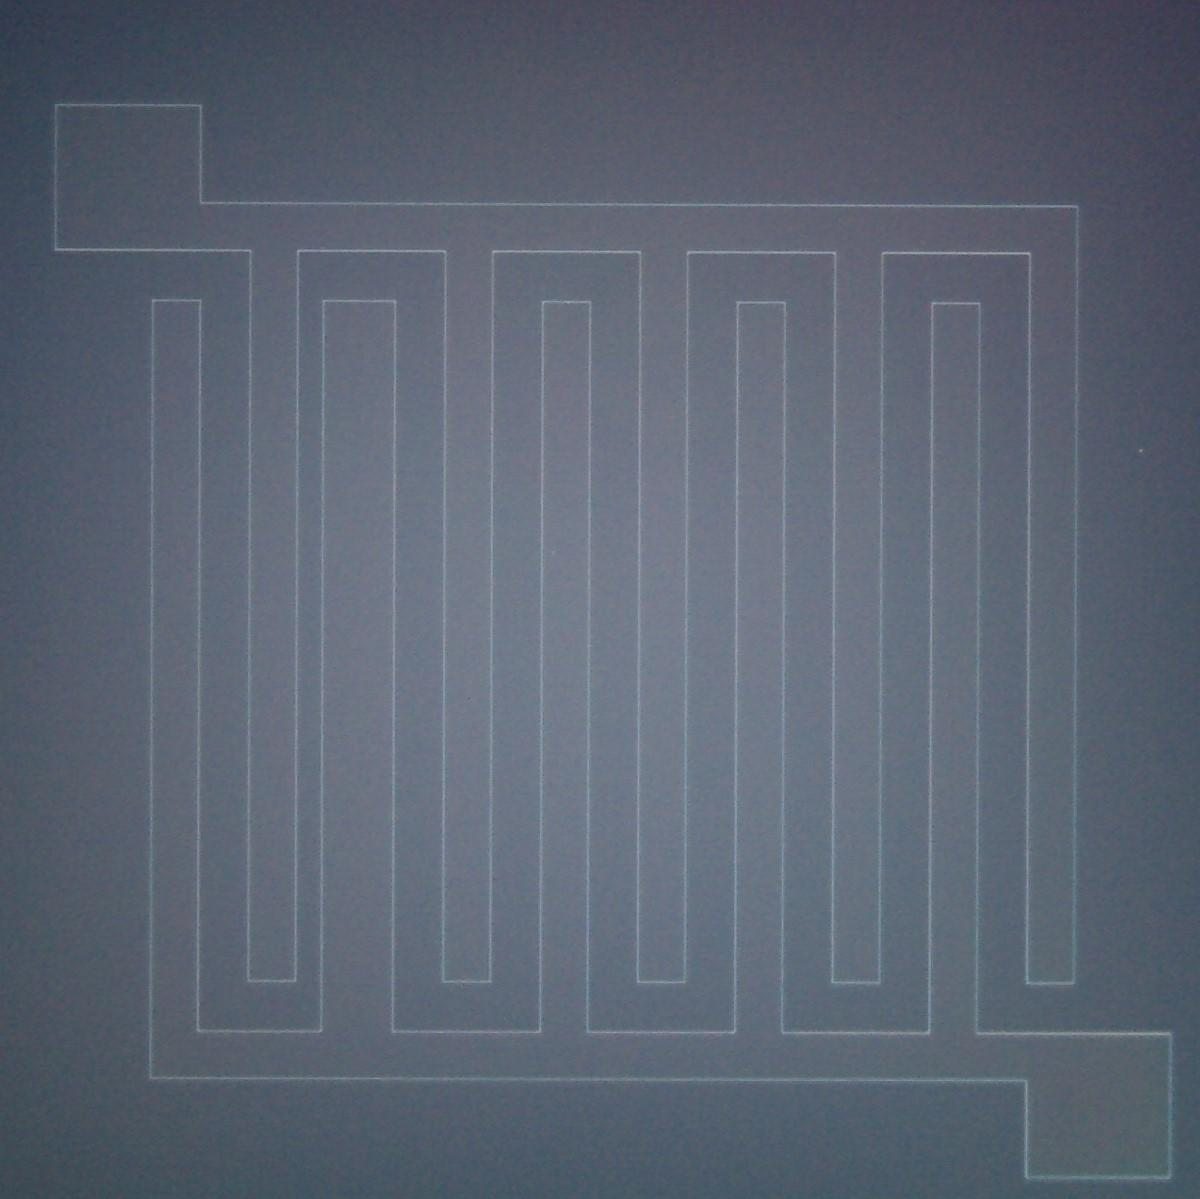width: (147, 285, 549, 1069)
